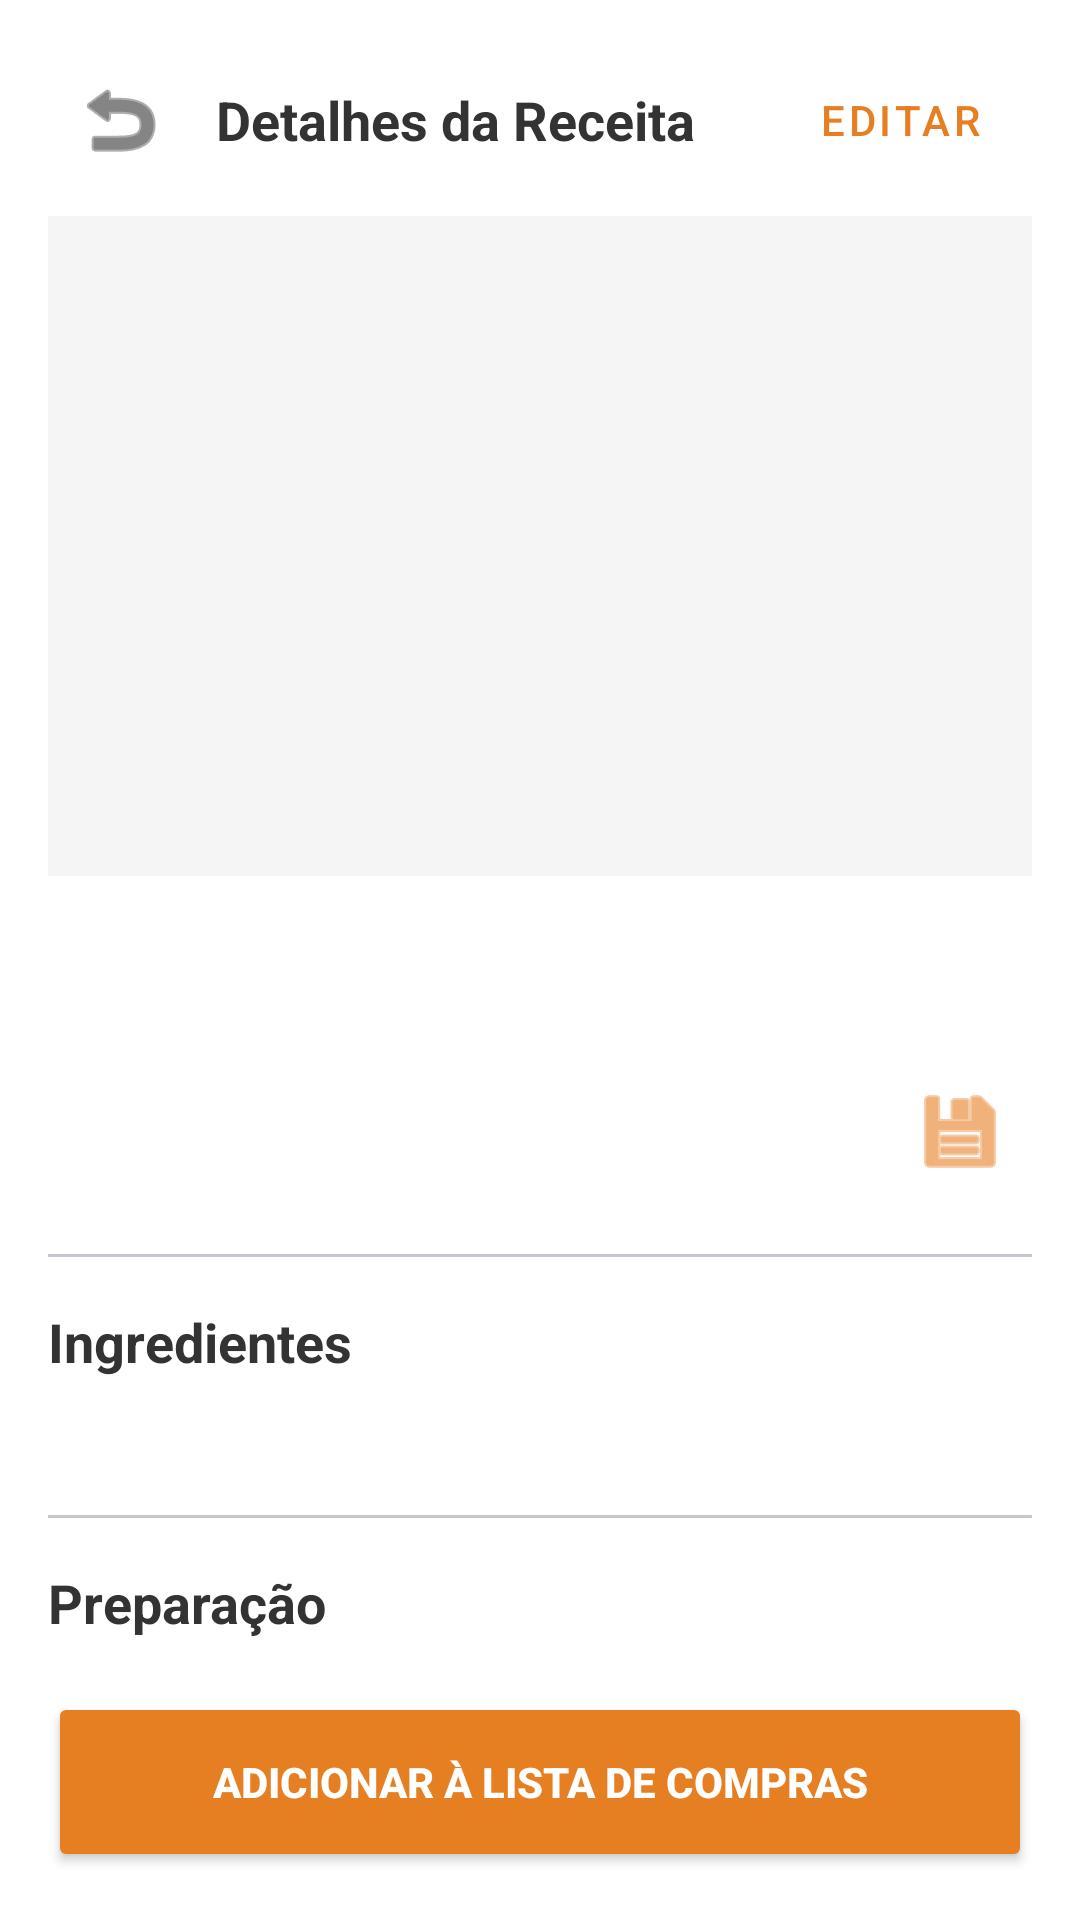

Icons on this 1080px×1920px Android screen, each with the point to tap as (x,y):
Voltar: (121,120)
